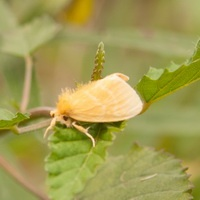insect: (56, 73, 143, 122)
